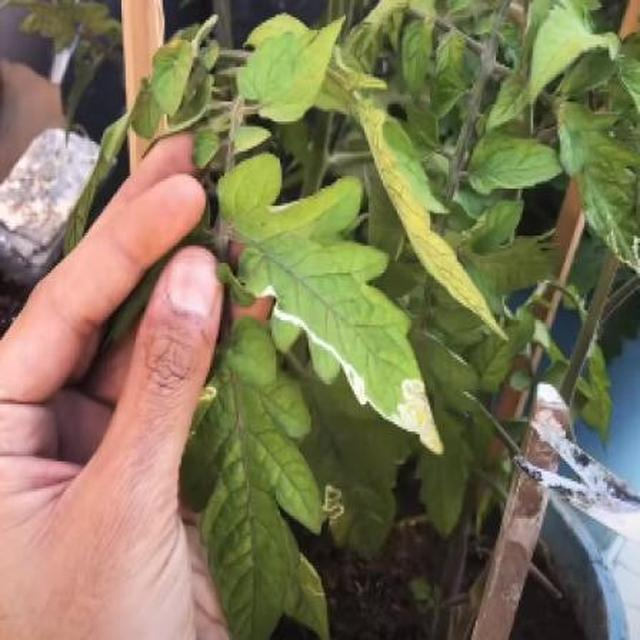Leaf Miner: (296, 205, 637, 640)
